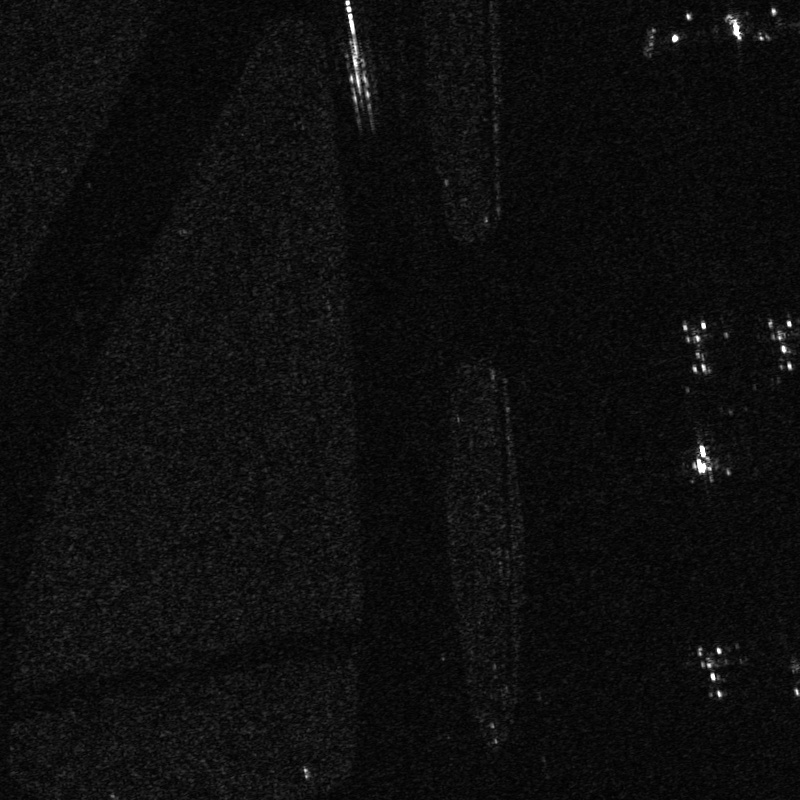ARJ21: (679, 642, 749, 701), (671, 441, 737, 484)
other: (661, 308, 736, 379)
